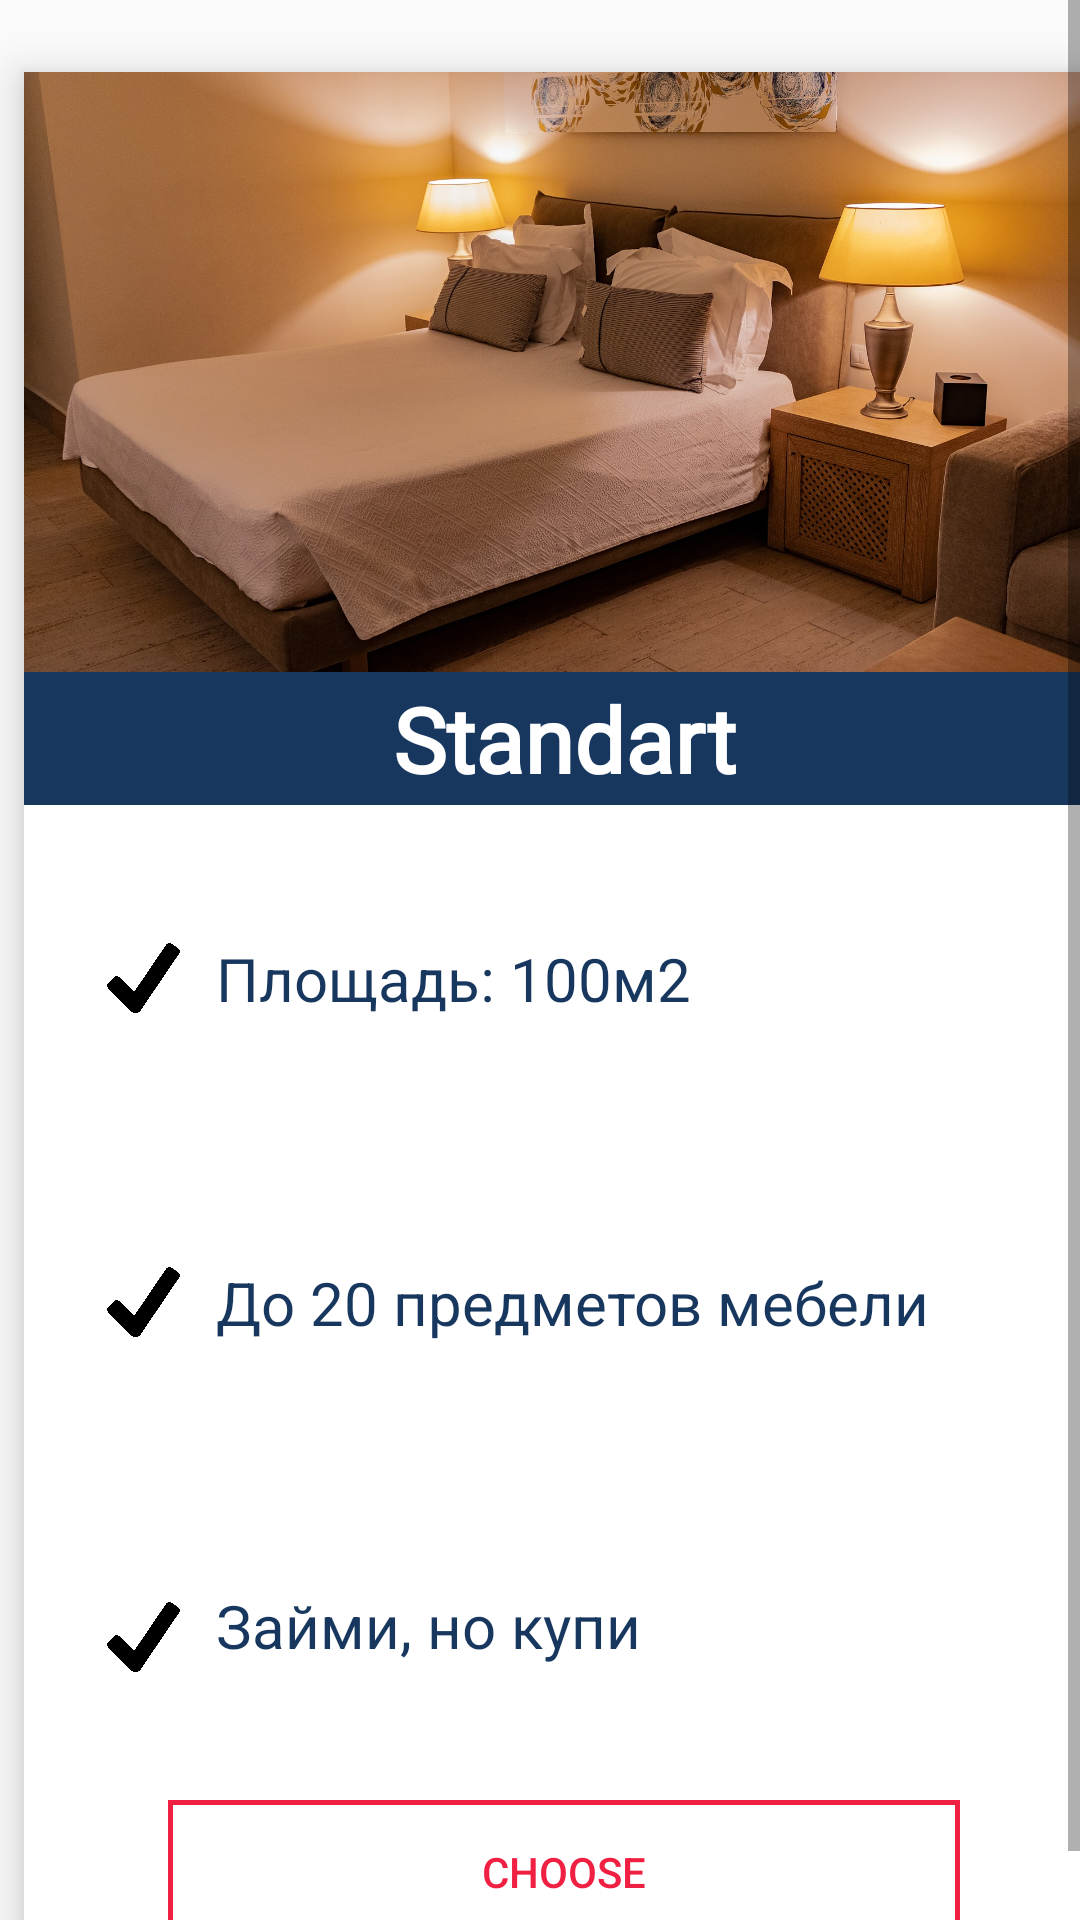

Named icons in this screenshot (1080×1920) and their bounding boxes, (x1, y1, x2, y2):
galochka: (107, 943, 180, 1013), (107, 1267, 180, 1337), (107, 1602, 180, 1672)
